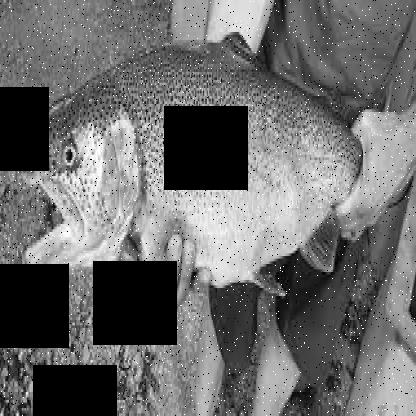fish: (18, 26, 414, 318)
